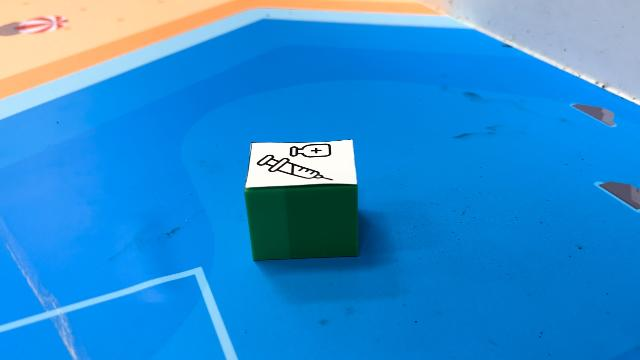syringe: (244, 139, 358, 261)
